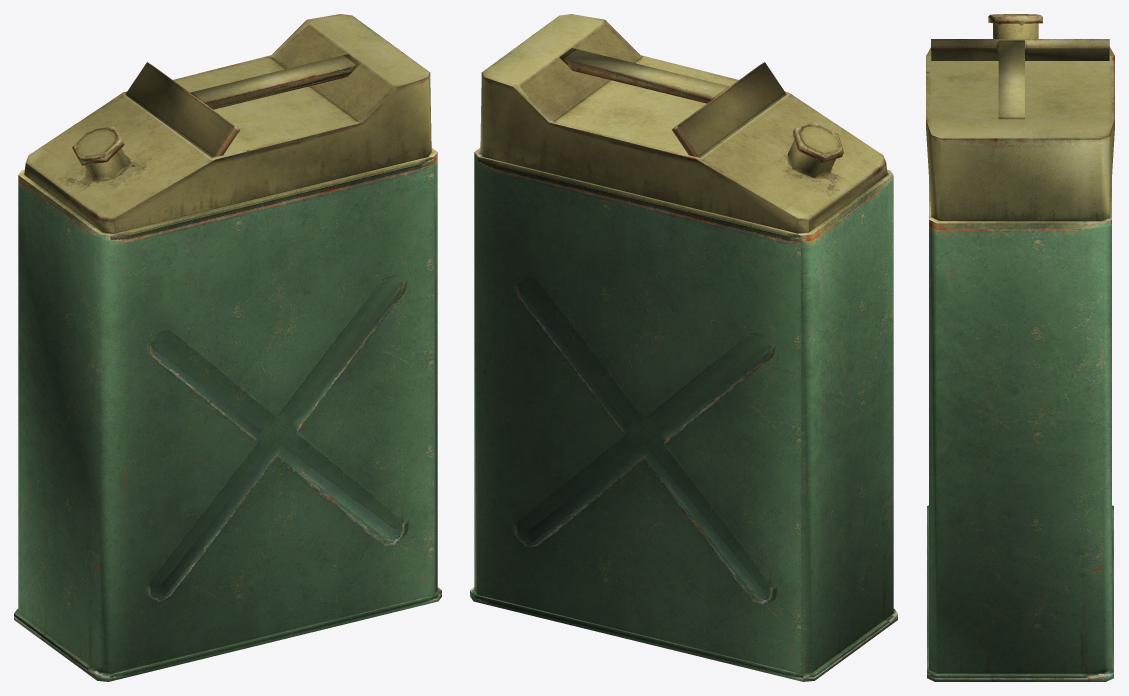
Rendered from Pickup_XiutzYt01.glb.
3 views of the same model, side by side, from view 1: azimuth 30°, elevation 25°; view 2: azimuth 150°, elevation 25°; view 3: azimuth 270°, elevation 25° (orthographic). The views are drawn at different scales.
Visible parts, largest first — view 1: pk_yt_01; view 2: pk_yt_01; view 3: pk_yt_01.
Boxes of the visible parts, x1,y1,x2,y2 form: pk_yt_01: [14, 14, 441, 681]; pk_yt_01: [470, 14, 897, 681]; pk_yt_01: [926, 14, 1114, 681].
Bounding box in the file's own units: 0.5161 × 0.7507 × 0.2384.
Materials: 1 (1 with a texture image).
